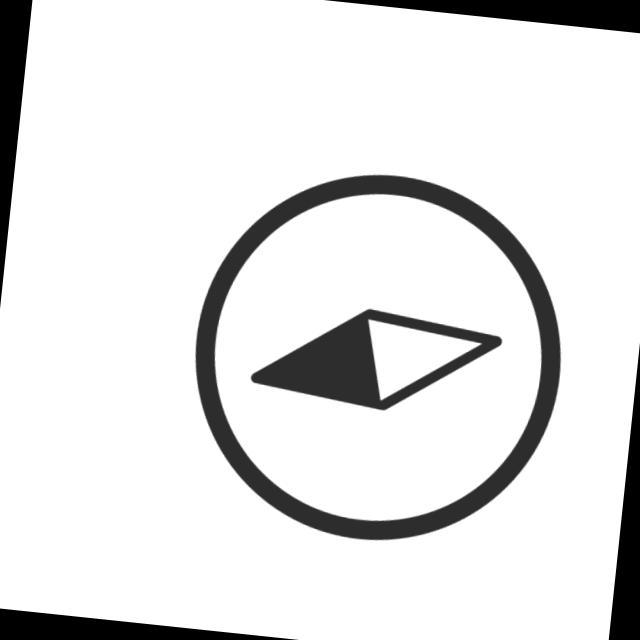compass: (173, 151, 587, 565)
